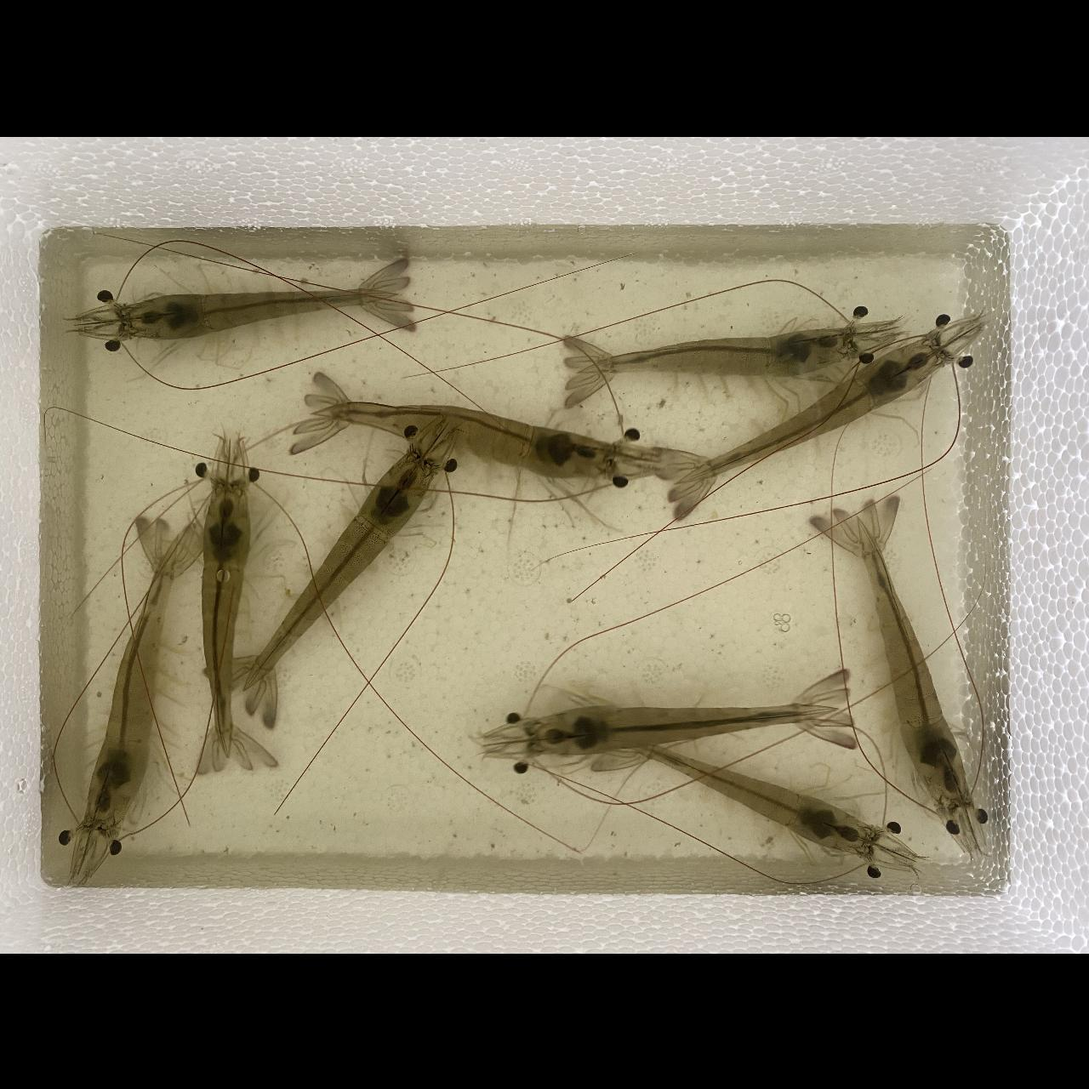top_shrimp: (243, 458, 429, 691), (681, 340, 943, 482), (858, 522, 965, 800), (88, 541, 177, 829), (638, 747, 871, 852), (308, 399, 616, 476), (531, 704, 830, 754), (124, 291, 398, 339), (574, 330, 853, 376), (202, 480, 248, 755)
